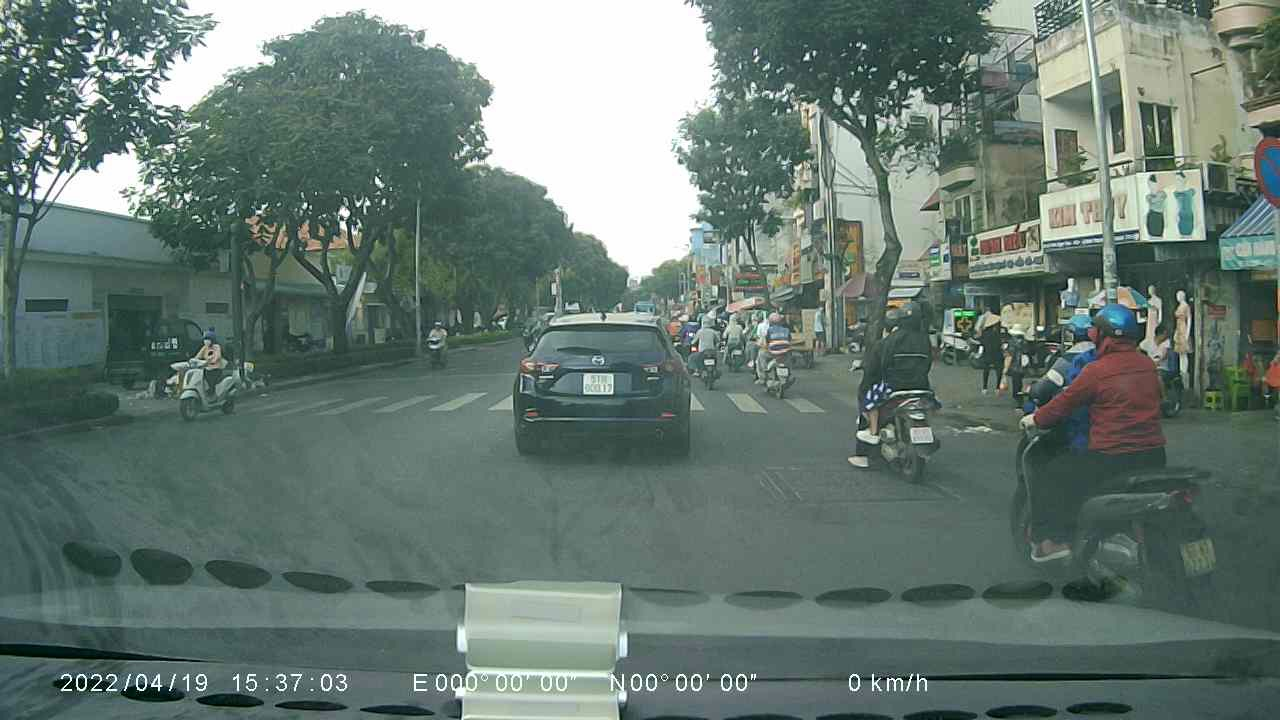Cam do xe: (1256, 133, 1280, 208)
